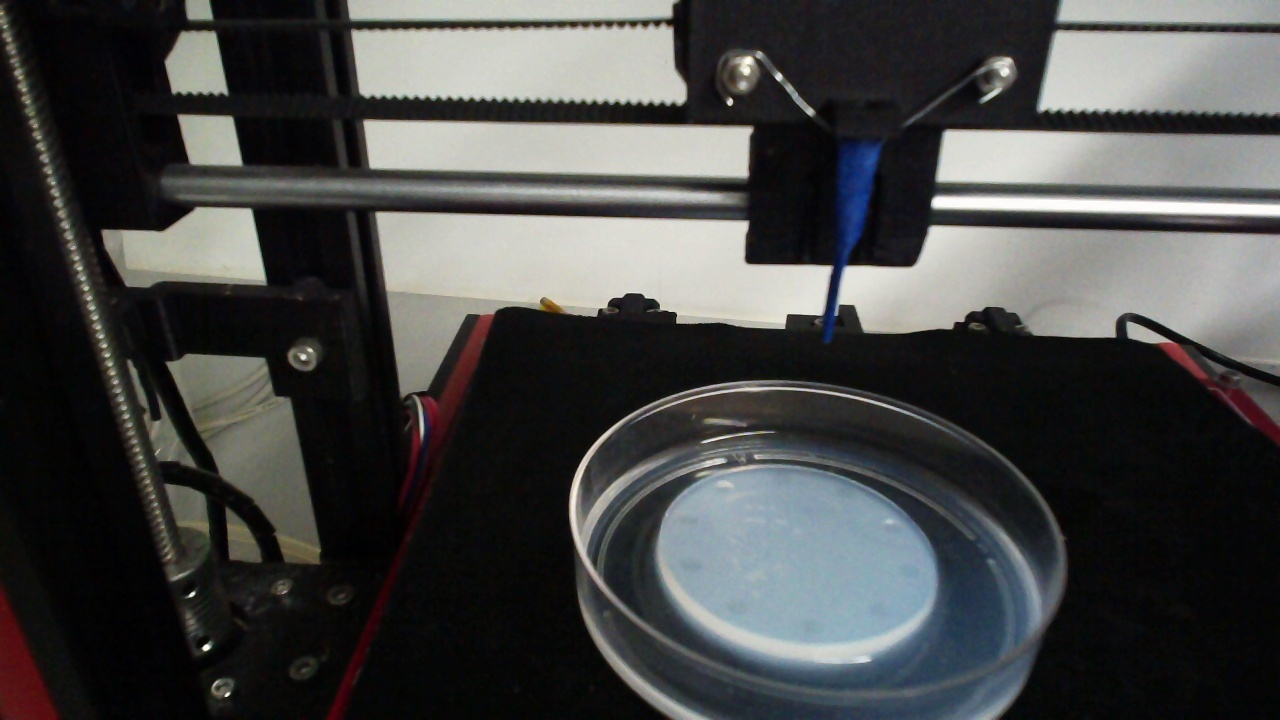groove: (796, 617, 822, 638), (866, 599, 892, 620), (679, 556, 703, 576), (724, 598, 748, 617), (896, 560, 919, 579), (883, 518, 906, 537), (677, 510, 699, 527), (712, 479, 737, 493), (770, 473, 793, 488), (833, 486, 855, 501)
needle: (823, 139, 884, 343)
